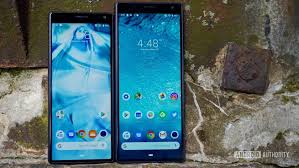sony: (115, 1, 189, 167), (45, 12, 120, 168)
